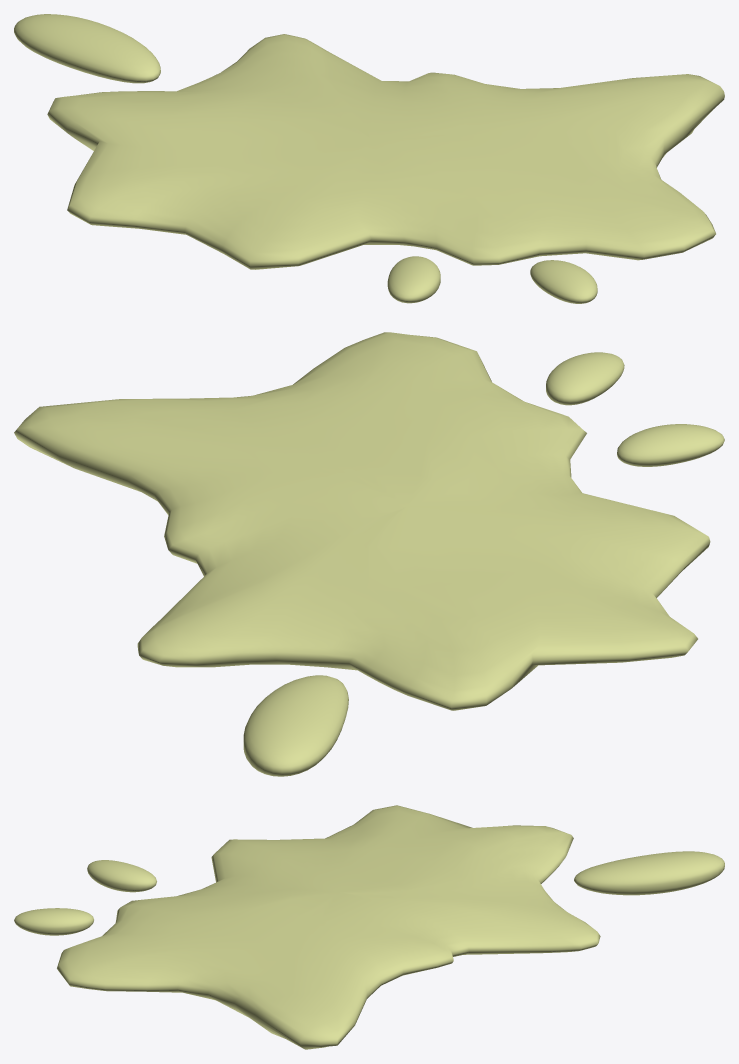
Rendered from Cream_effect.fbx.
The picture shows the model from 3 angles, top to bottom: view 1: azimuth 30°, elevation 25°; view 2: azimuth 150°, elevation 25°; view 3: azimuth 270°, elevation 25°; orthographic projection. The views are drawn at different scales.
Parts seen in each view (by area): view 1: Sphere.003; view 2: Sphere.003; view 3: Sphere.003.
Boxes of the visible parts, box(x1,y1,x2,y2) form: Sphere.003: box(14, 14, 724, 303); Sphere.003: box(14, 332, 724, 776); Sphere.003: box(14, 805, 724, 1049).
Bounding box in the file's own units: 64.04 × 5.45 × 78.43.
